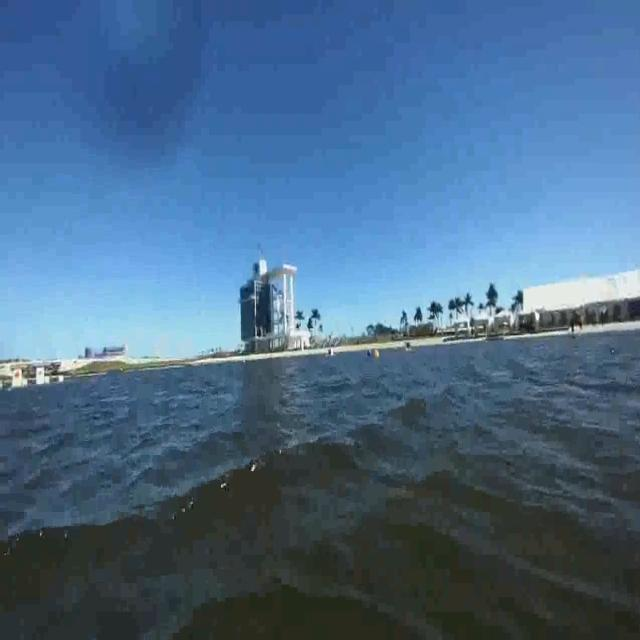yellow-buoy: (374, 352, 382, 362)
